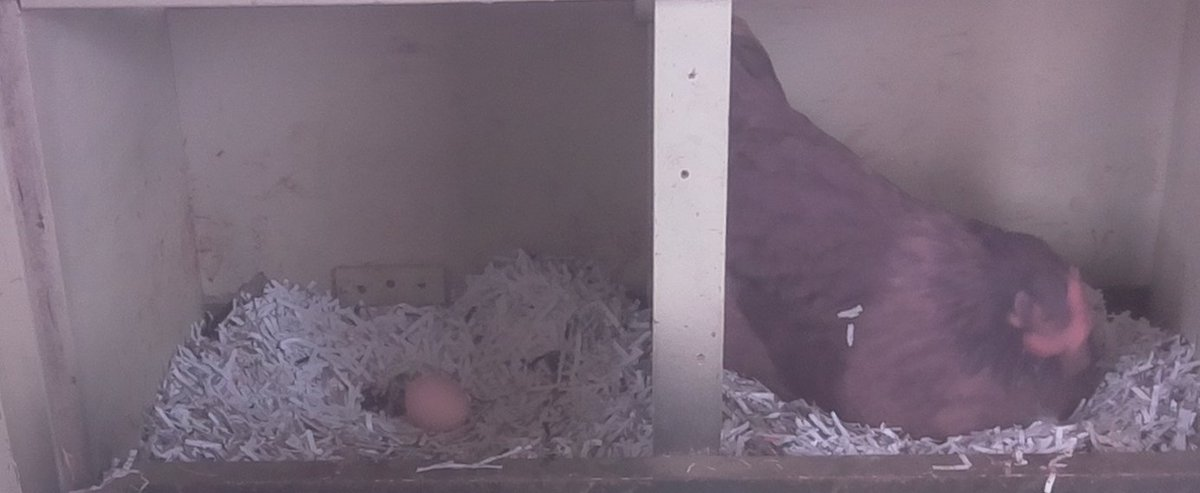egg: (394, 359, 486, 441)
hen: (730, 12, 1115, 436)
